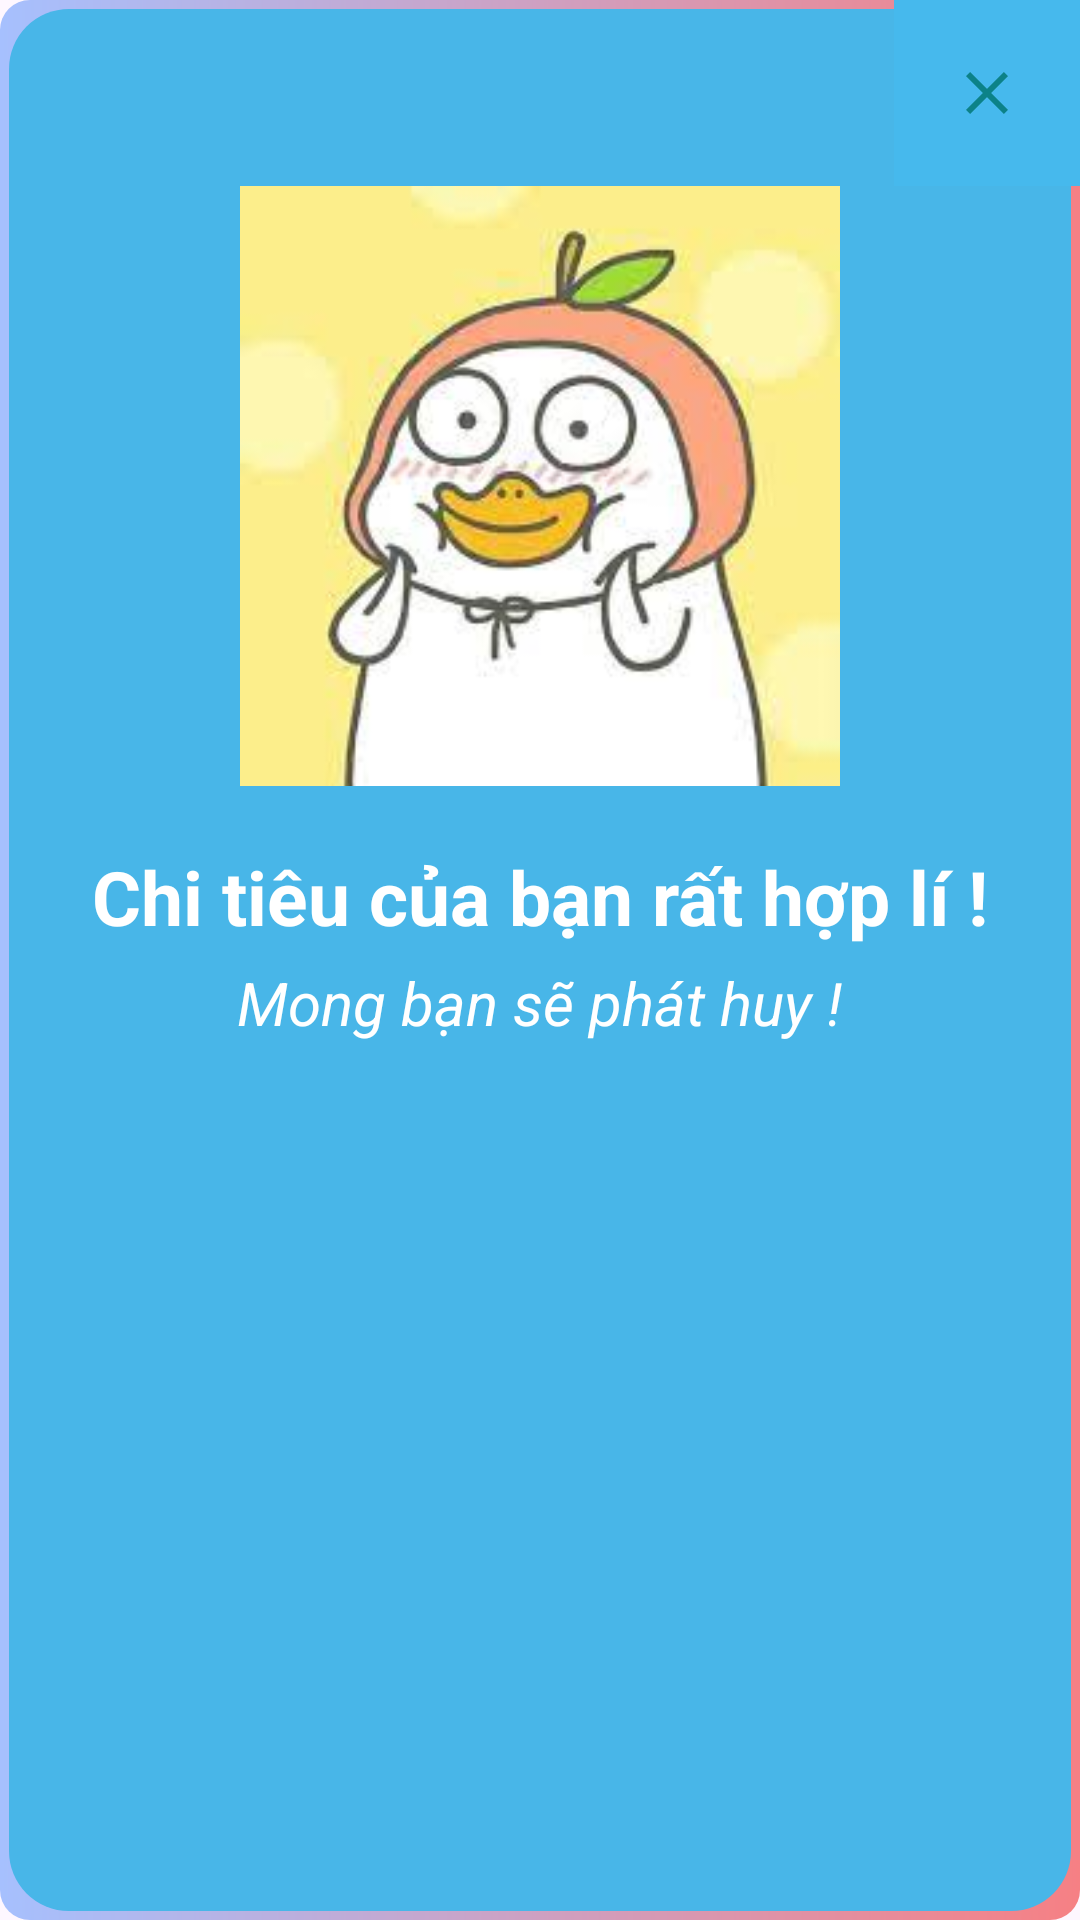

Screen size 1080x1920. Icon name, then its box in pixels as (x1, y1, x2, y2):
close lai: (966, 72, 1008, 114)
